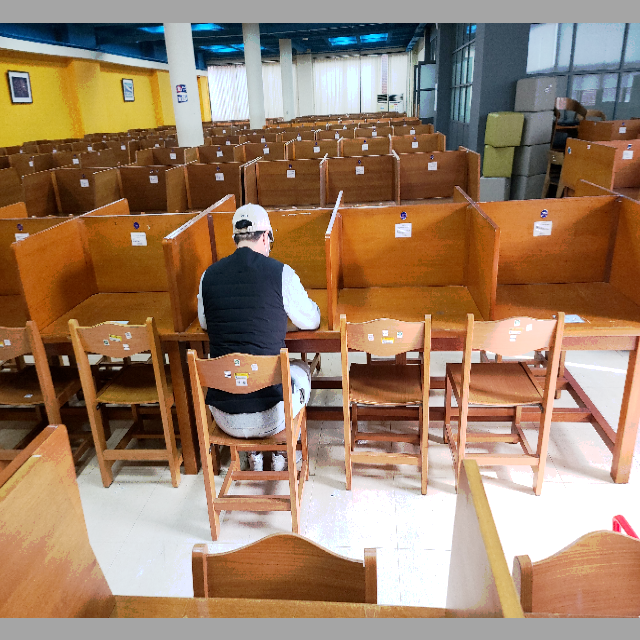empty: (496, 190, 640, 406), (333, 202, 485, 405)
full: (178, 186, 328, 420)
